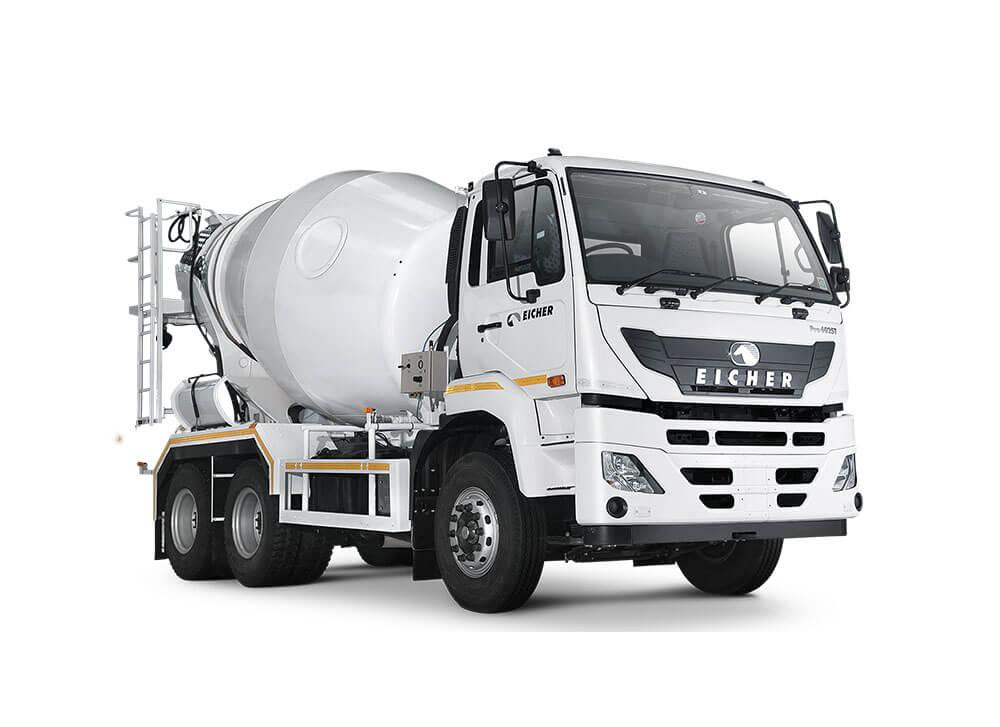truck: (127, 148, 864, 614)
